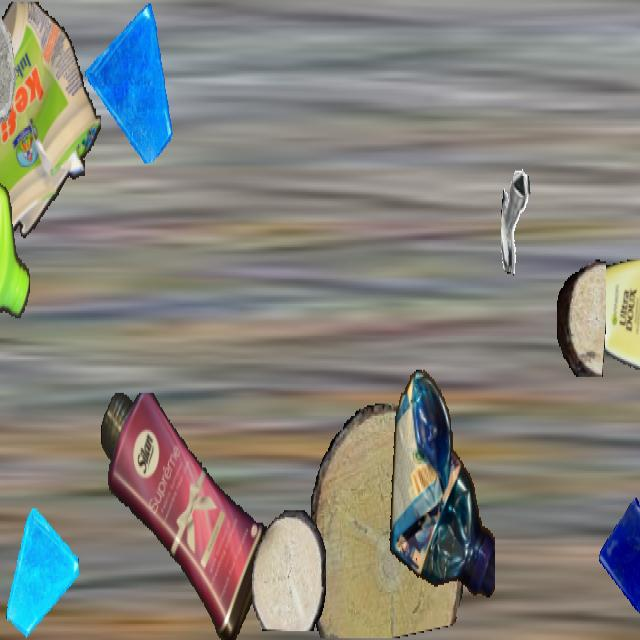glass: (85, 2, 175, 162), (4, 507, 78, 638), (597, 498, 640, 636), (0, 2, 19, 130)
metal: (501, 169, 563, 279)
plastic: (100, 393, 272, 638), (386, 366, 494, 608), (0, 2, 101, 247), (0, 100, 31, 334), (580, 259, 640, 377)
wood: (307, 404, 467, 638), (252, 510, 326, 631), (557, 258, 605, 375)
